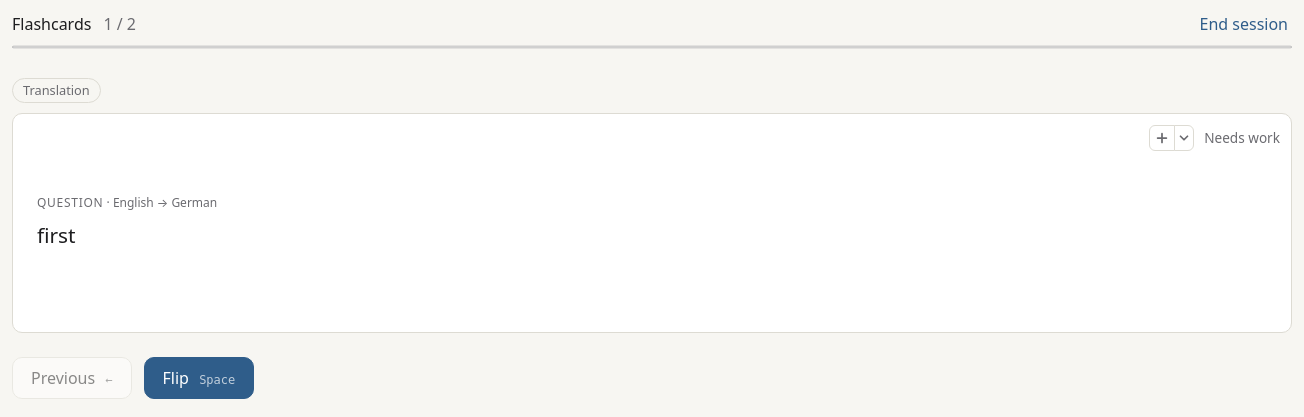
SessionRunner › passes each card its direction and shows the question type
The image size is (1304, 417).
Expected: the text "Translation" is shown, [12,78,101,103]
Expected: the text "first" is shown, [37,221,76,249]
Step 1. Click the button "Flip Space" → (199, 378), box [144,357,254,399]
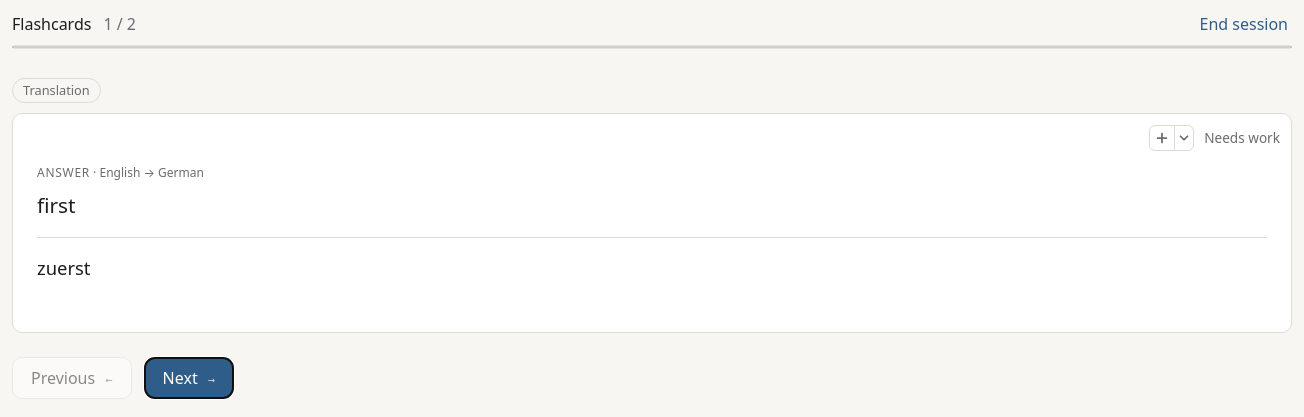
Step 2. Click the button "Next →" → (189, 378), box [144,357,234,399]
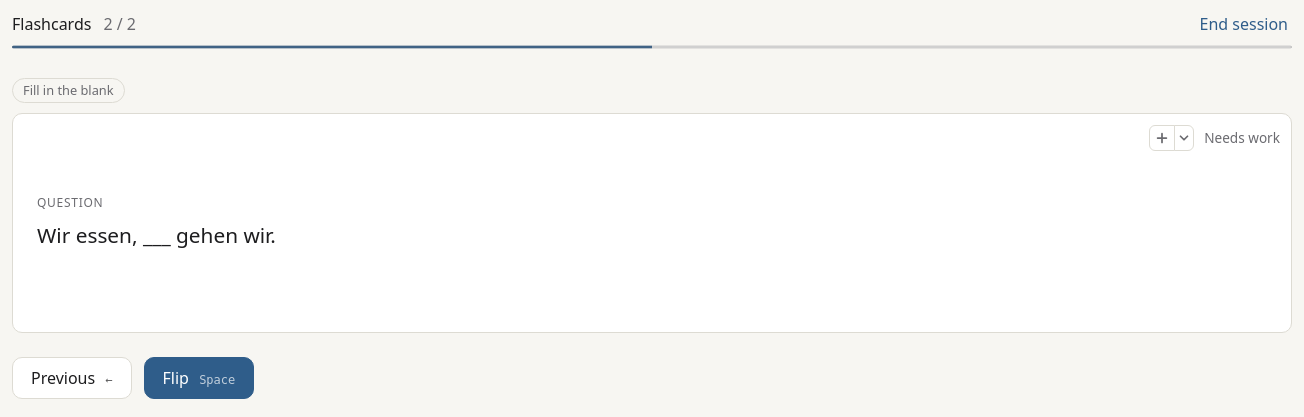
Result: the text "Fill in the blank" is shown at [12,78,125,103]
